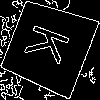K: (24, 22, 80, 71)
